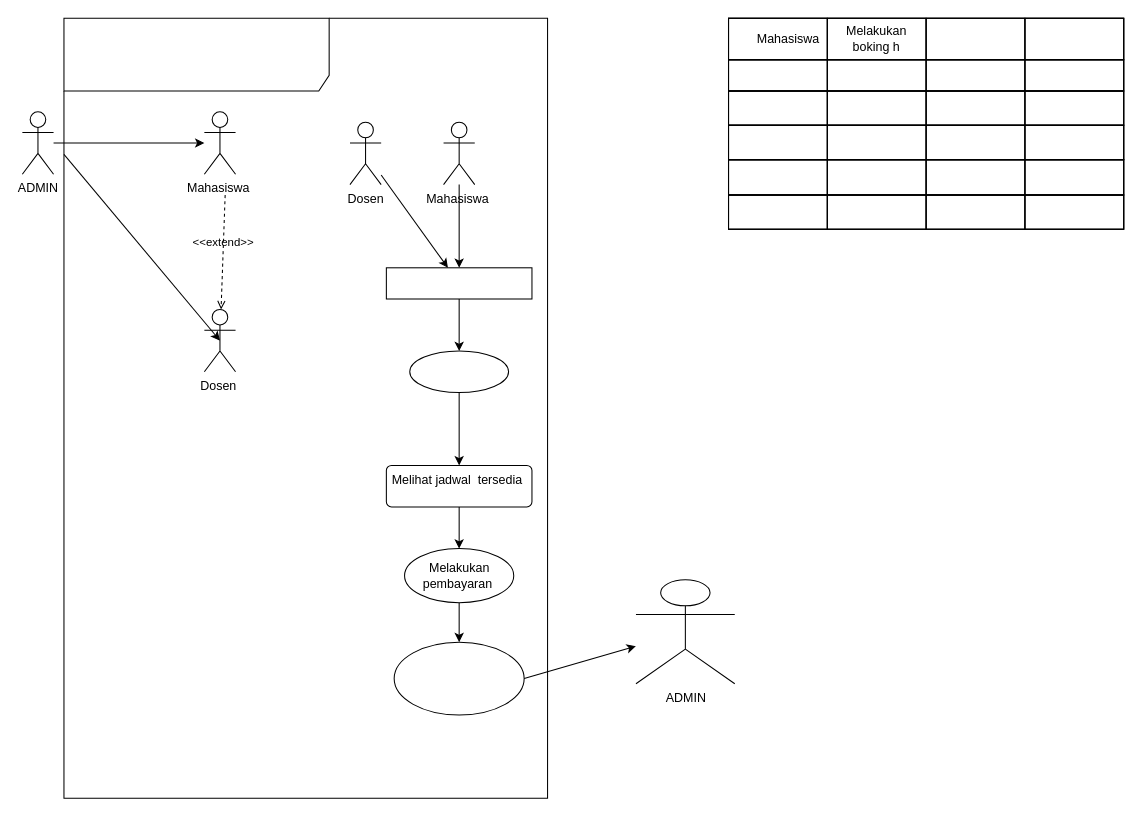
This 1142x816 diagram has some shape labels left out. The shapes that lost their labels are listed below. From the top down, each one's box as (x1, y1, x2, y2) in pixels, then its label:
(385, 267, 532, 299): Meminjam lapangan
(409, 350, 509, 393): LOGIN
(63, 17, 548, 798): Sistem Informasi Reservasi Lapangan Olahraga Kampus (SIFOR)
(393, 641, 524, 715): validasi
